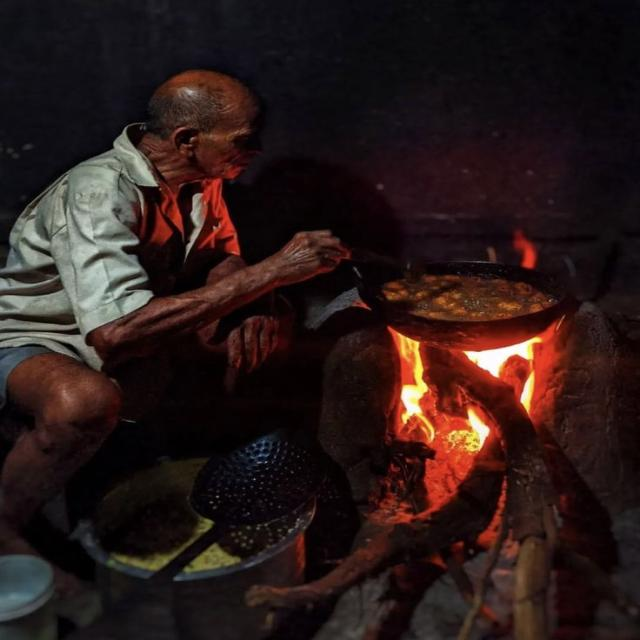fire: (418, 408, 490, 517), (462, 338, 542, 416), (388, 326, 435, 440)
